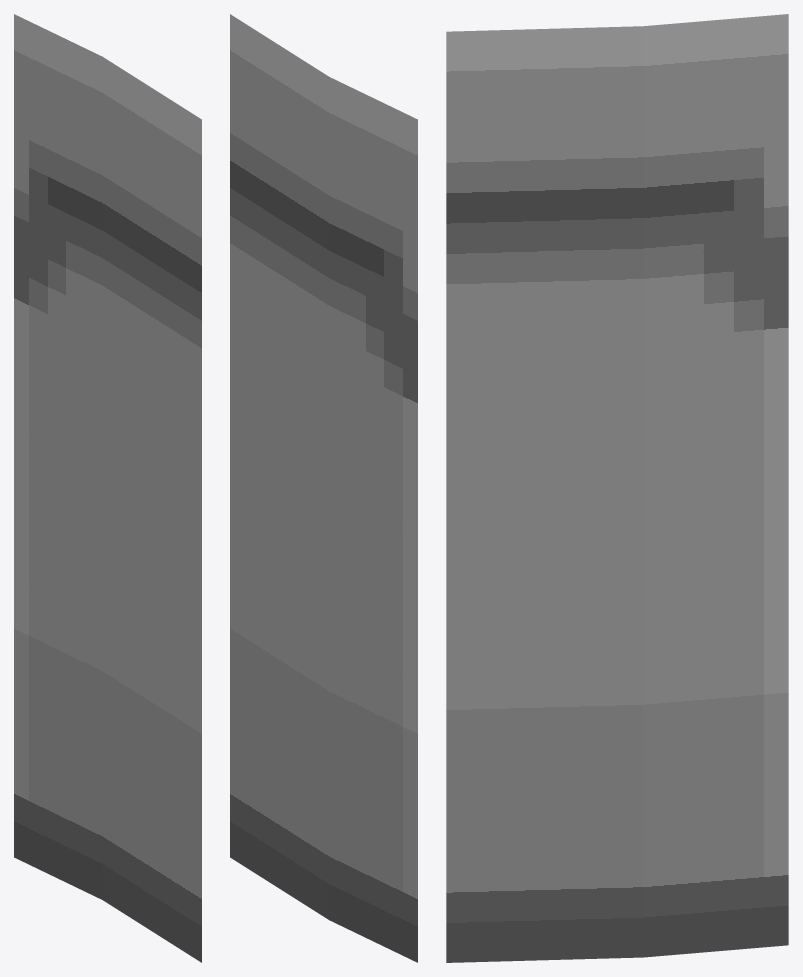
3 renders of one model, left to right at view 1: azimuth 30°, elevation 25°; view 2: azimuth 210°, elevation 25°; view 3: azimuth 270°, elevation 25°, orthographic. The views are drawn at different scales.
Bounding box in the file's own units: 0.122 × 3 × 1.
1 material, 1 textured.
